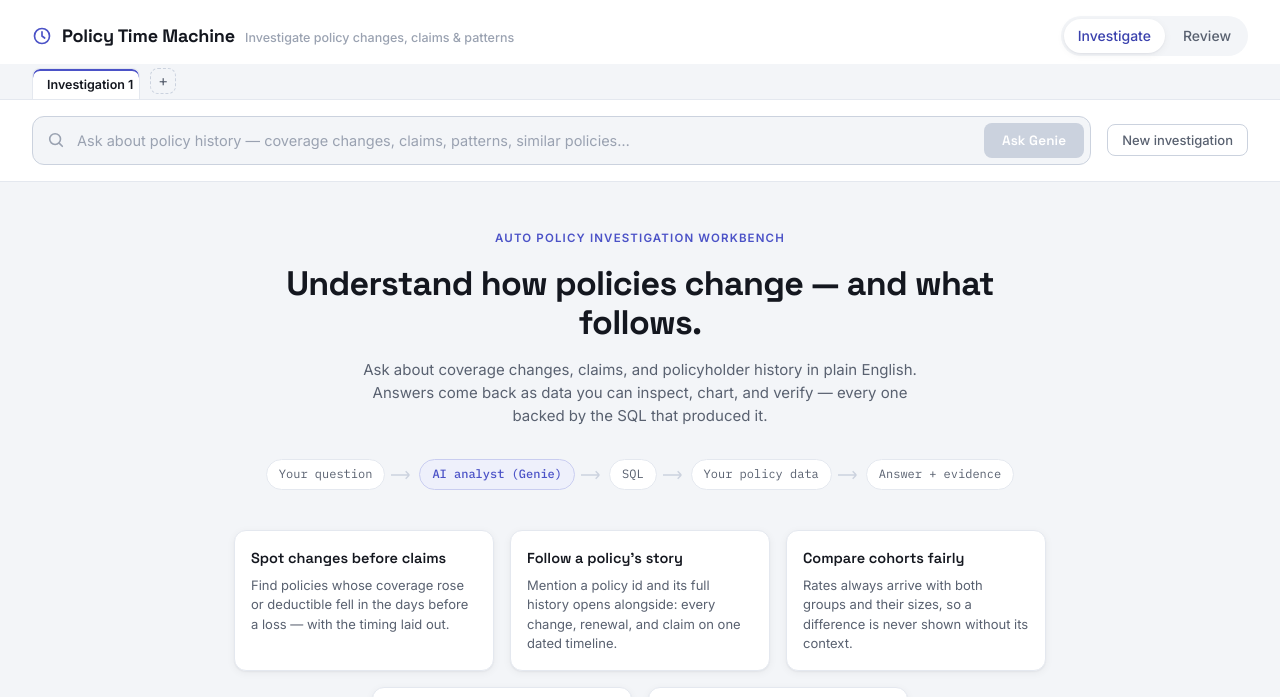
Test: App smoke test (mock mode) › double-clicking a tab renames it, and the typed name survives the auto-name
Double-click the button "Investigation 1" at [86, 84], box [33,69,139,100]
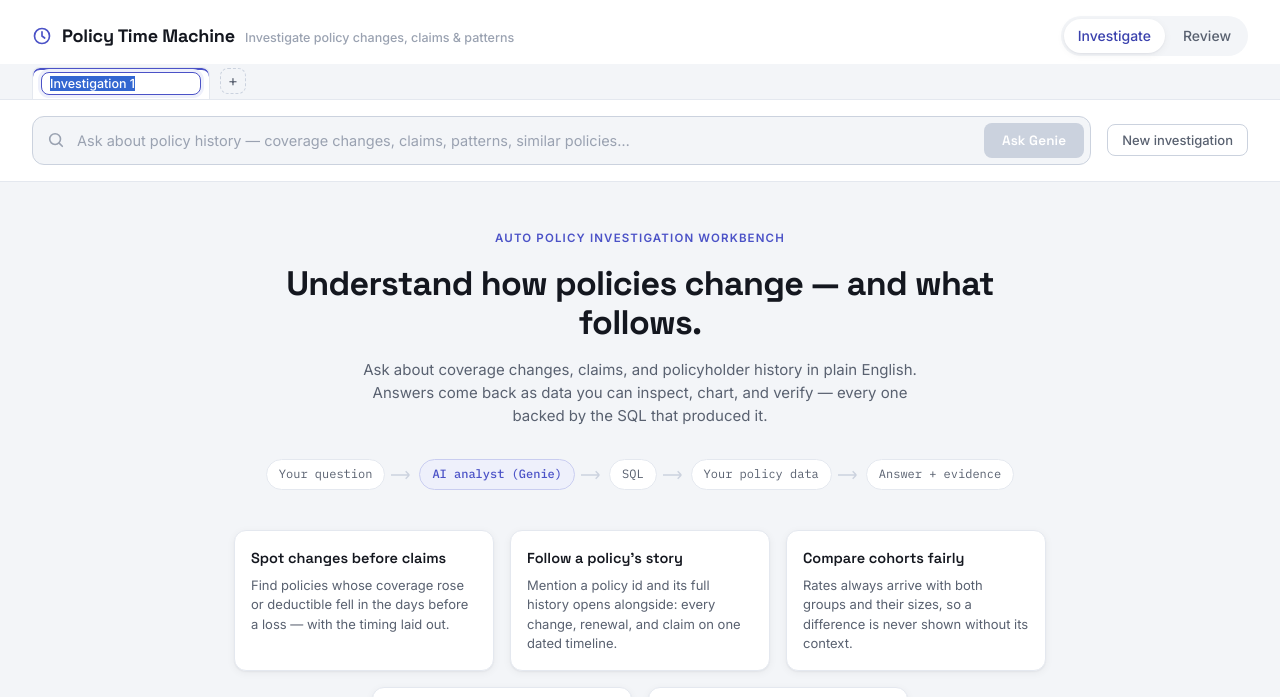
Replace the text in the field named "Rename investigation" with "Fraud sweep Q3" at [121, 83], box [41,72,201,95]
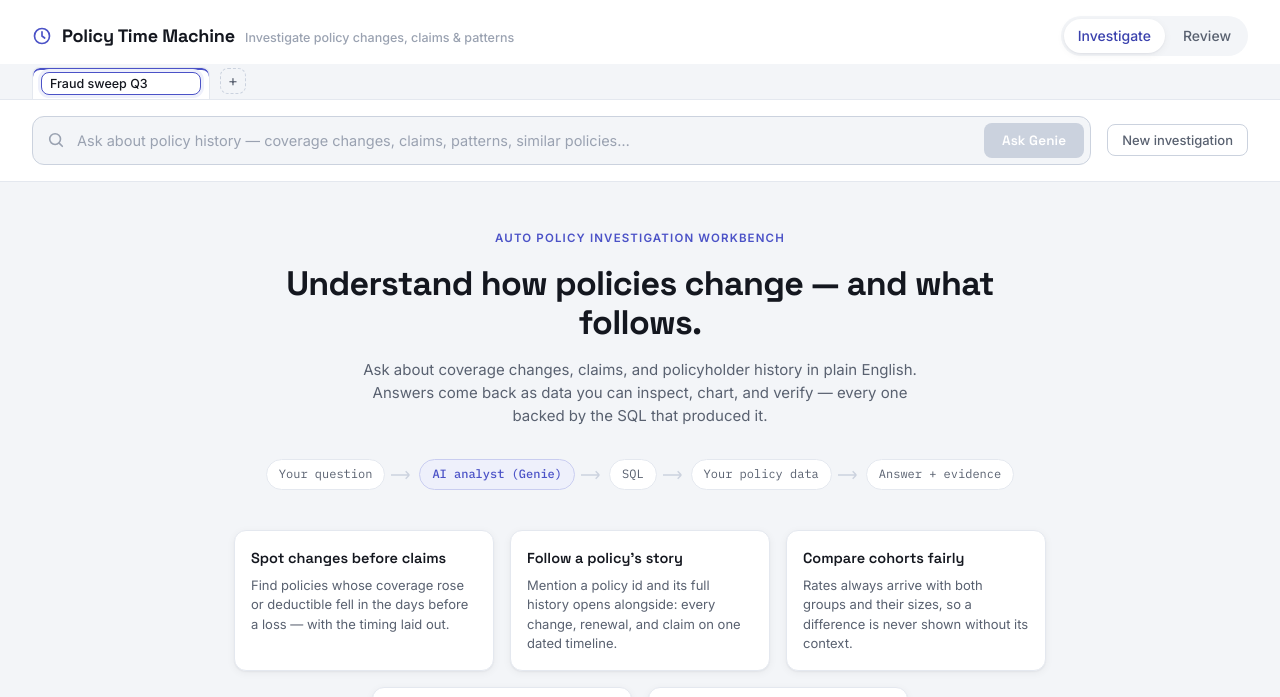
Press Enter in the field named "Rename investigation", box [41,72,201,95]
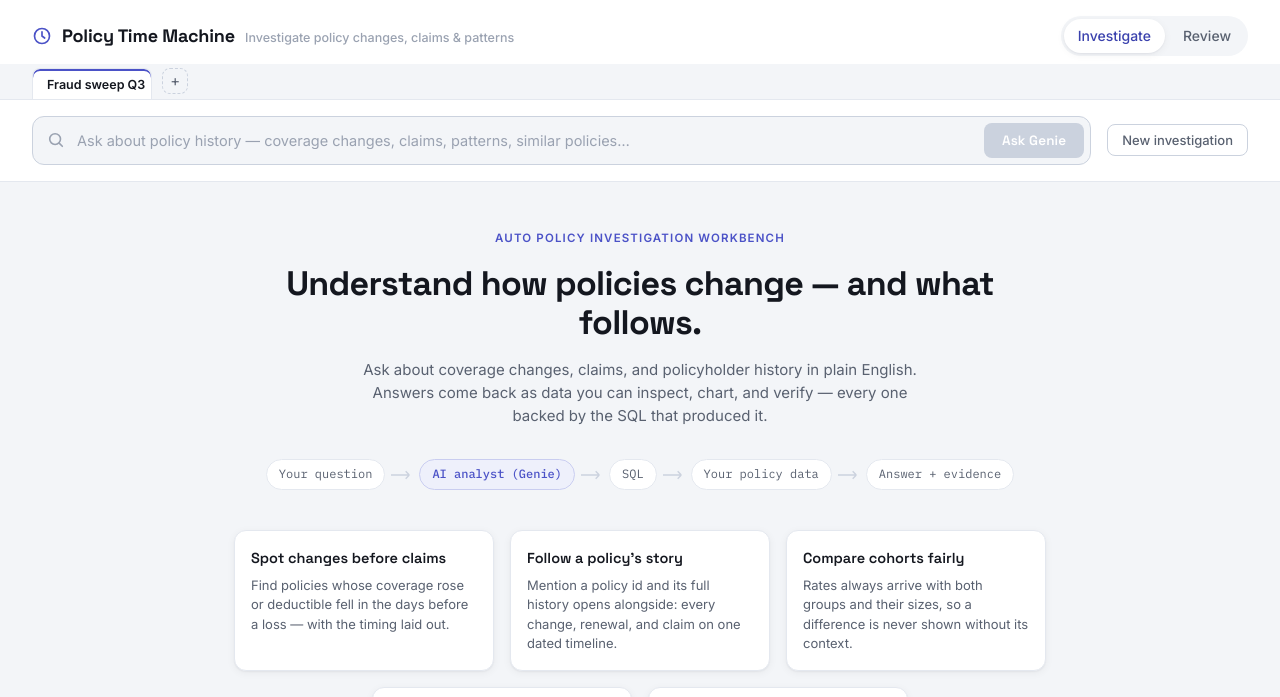
Now the button "Fraud sweep Q3" is shown, box [33,69,151,100]
Replace the text in the field labelled "Ask about policy history" with "Show policies where coverage increased within 30 days before a claim." at [524, 140], box [73,124,976,157]
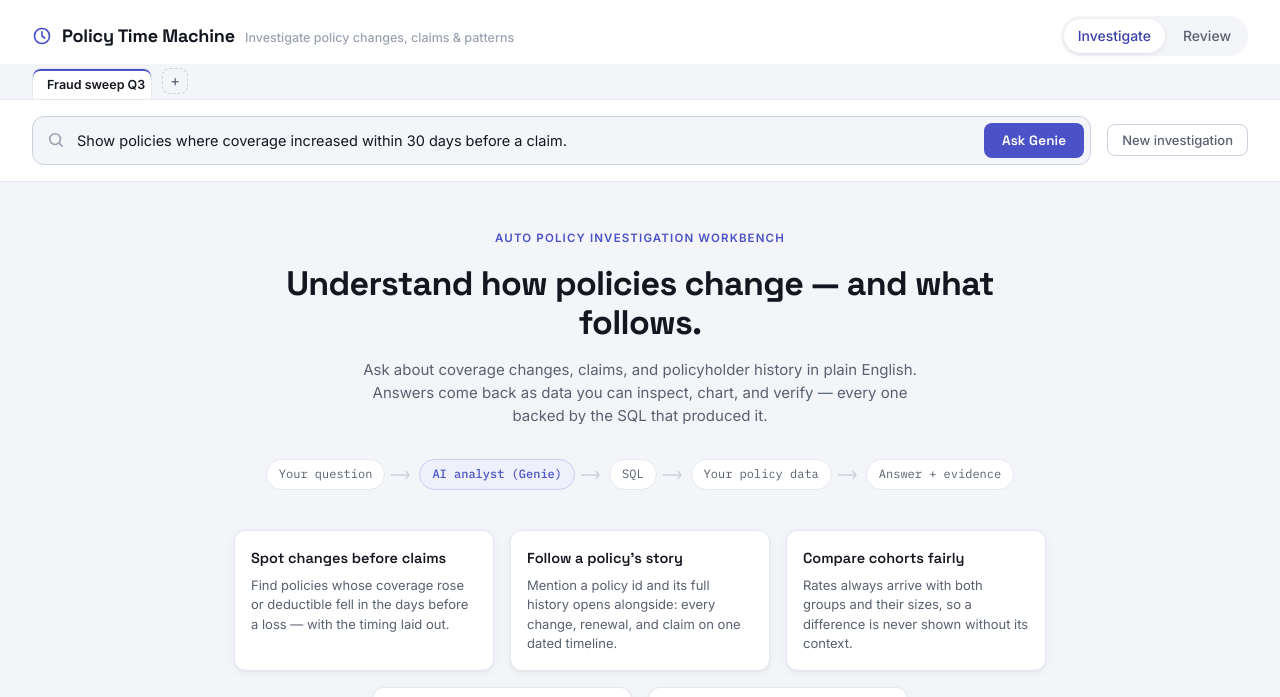
Submit the form named "Ask about policy history", box [32,116,1091,165]
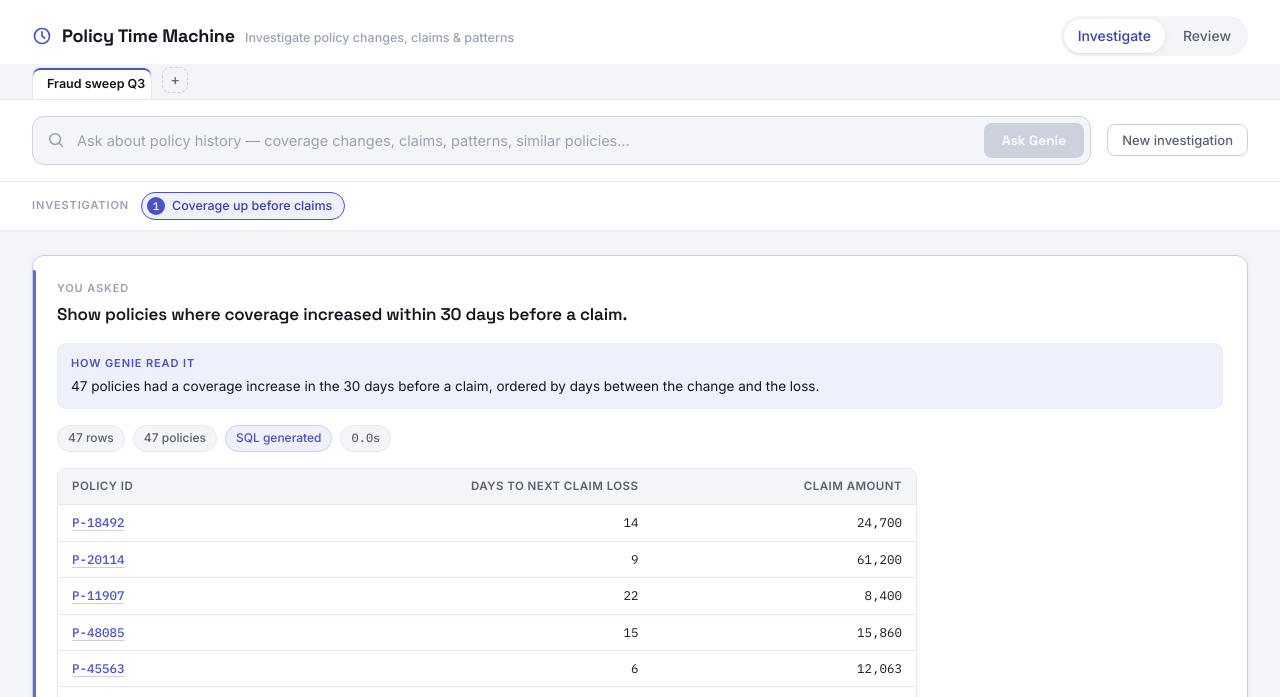
Now the button "Fraud sweep Q3" is shown, box [33,68,151,99]
Now the text "47 rows" is shown, box [57,425,125,452]
